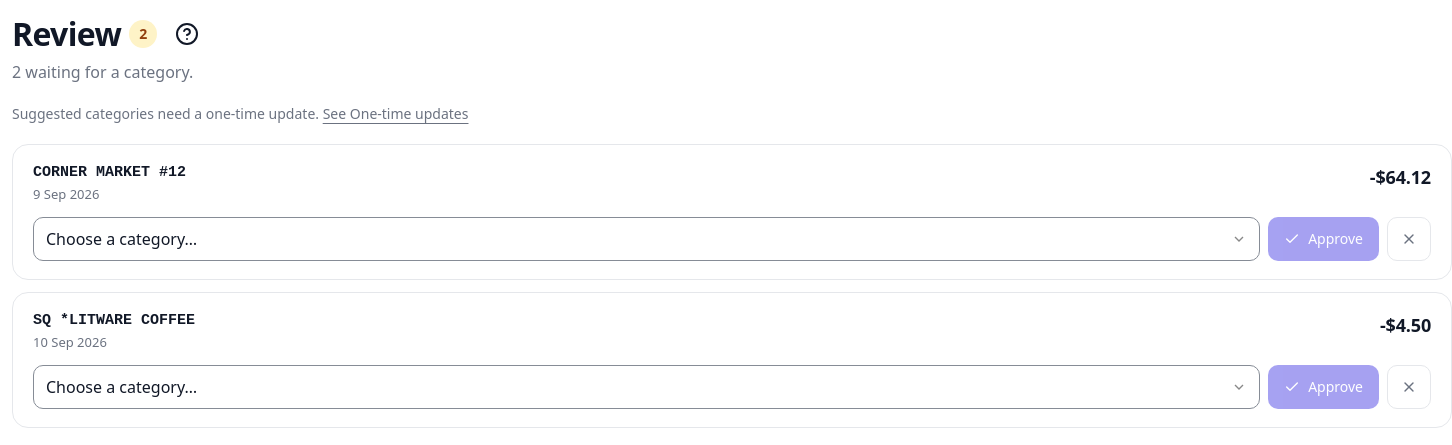
Test: Review asks the AI for categories › without 0018, leaves Review as it was with one line, and never asks the AI
The width and height of the screenshot is (1452, 445).
Expected: the text "Suggested categories need a one-time update." is shown, [12,104,319,123]
Select "Groceries" in the dropdown named "Category" below "9 Sep 2026" at point(647, 239), box [33,217,1260,261]
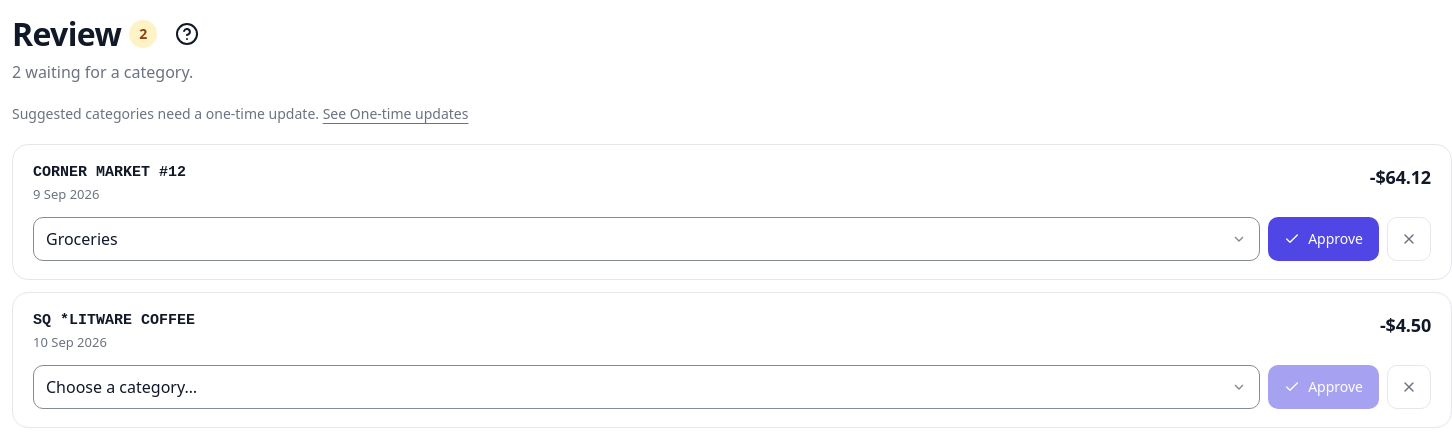
Click the button "Approve" below "-$64.12" at point(1324, 239), box [1268,217,1379,261]
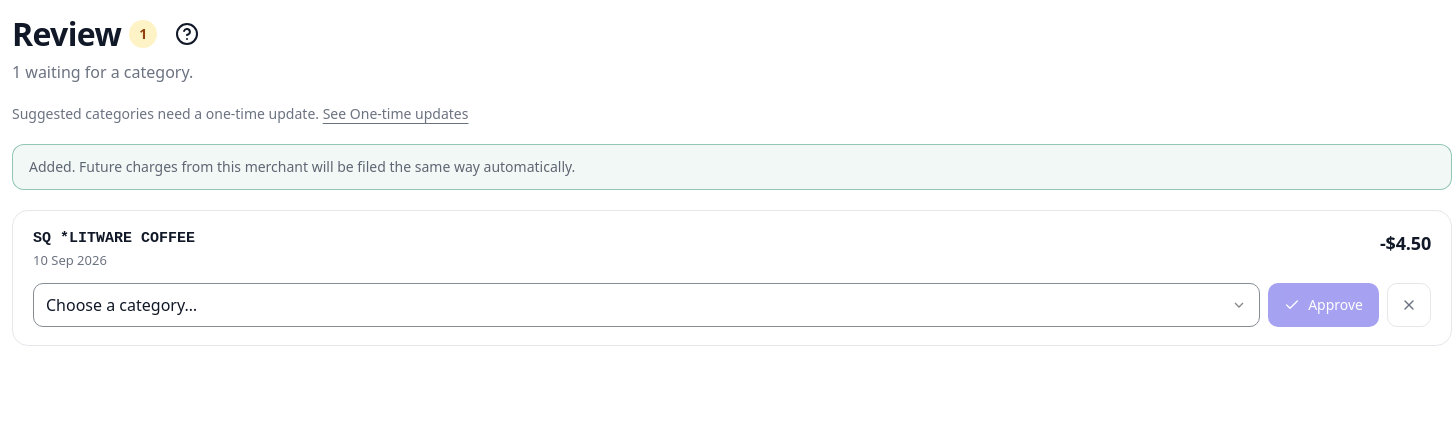
Now the text "Added." is shown, box [29,157,575,176]
